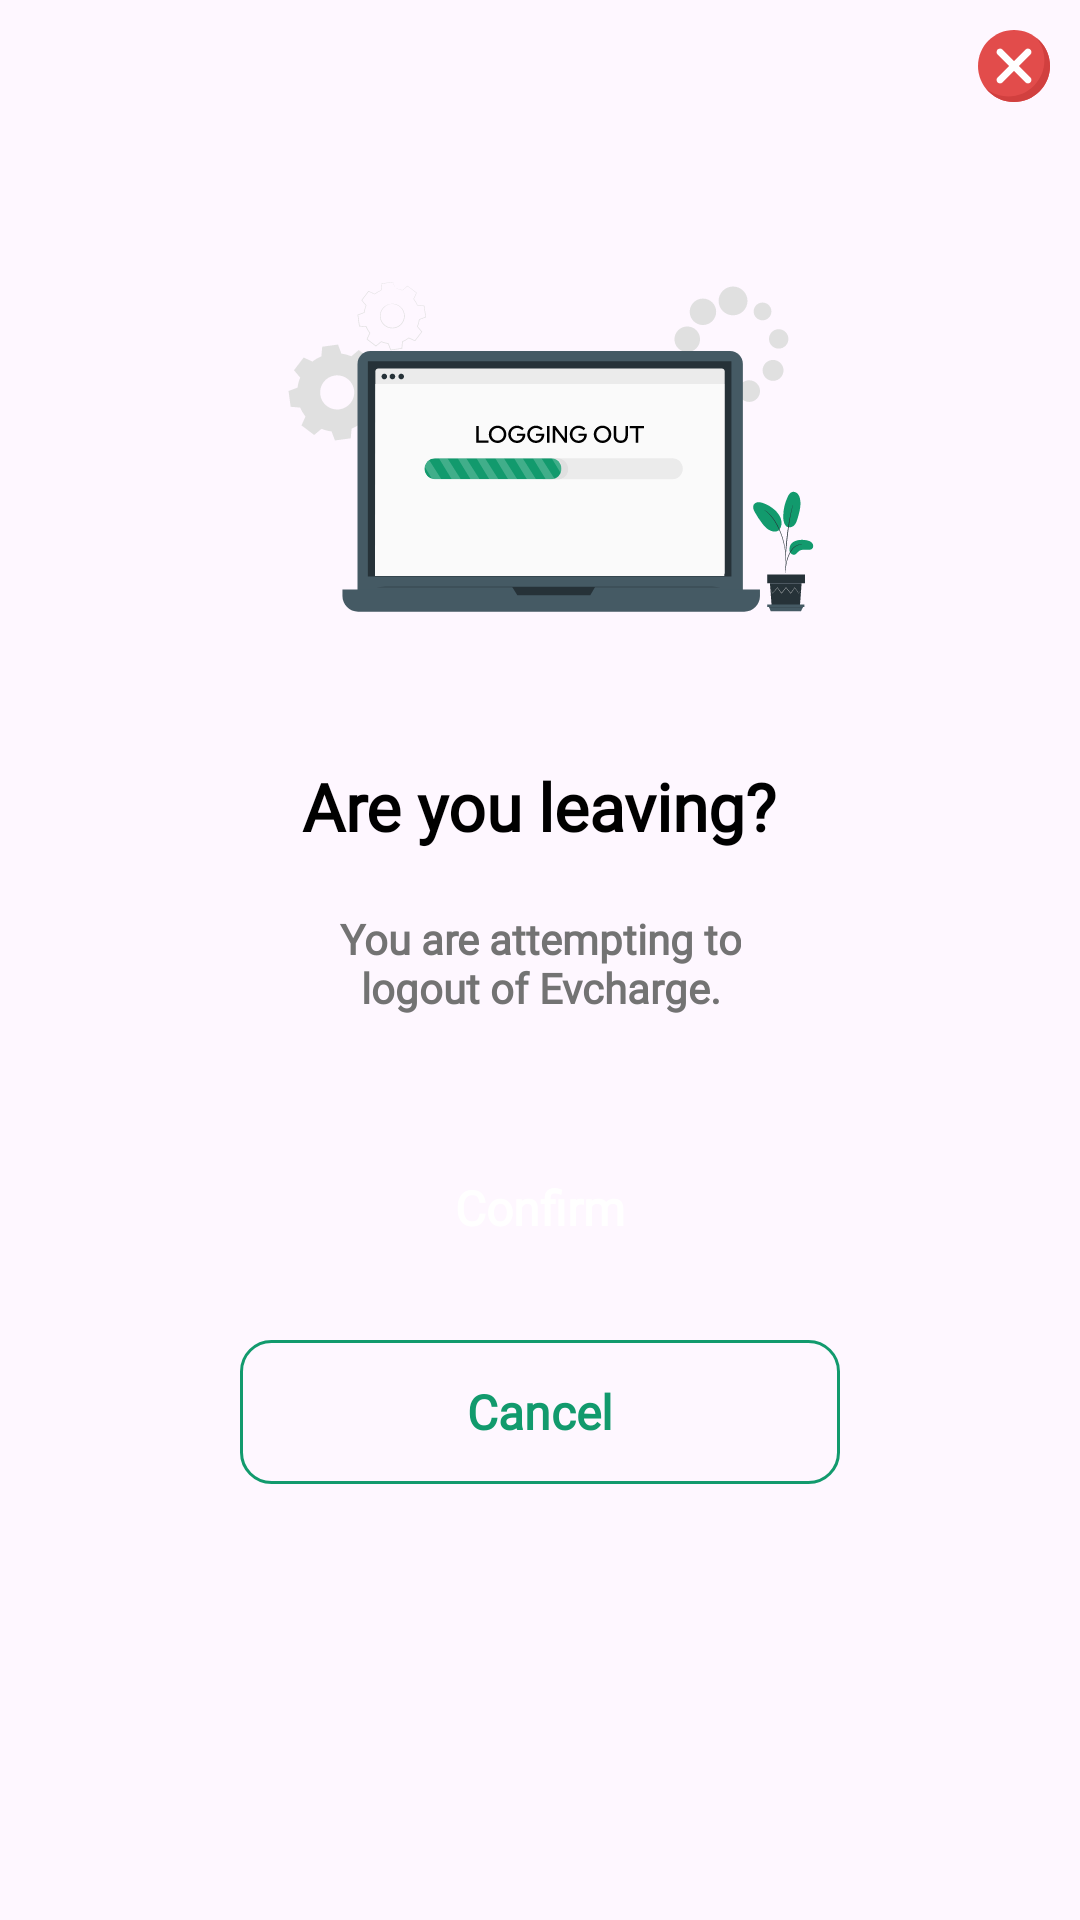

Named icons in this screenshot (1080px×1920px) and their bounding boxes, (x1, y1, x2, y2):
cancel: (978, 30, 1050, 102)
